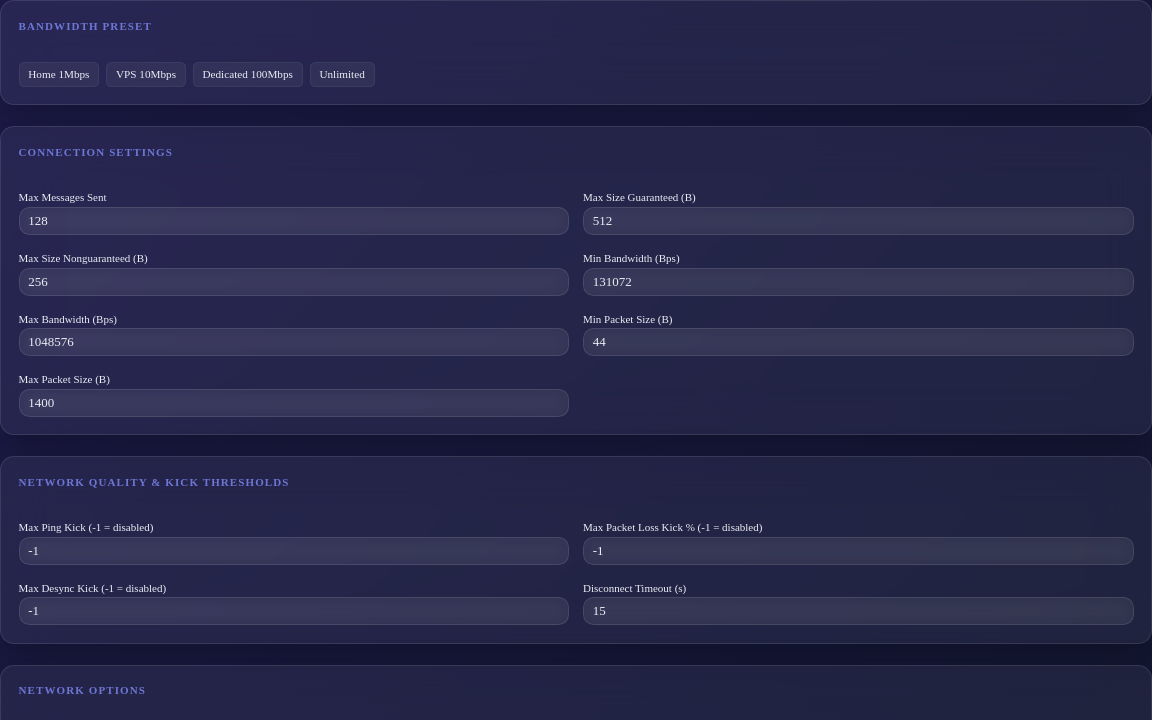
Test: NetworkTab › applies bandwidth preset values when preset button is clicked
Click the button "Unlimited". click: click(342, 74)
box: [310, 62, 375, 87]
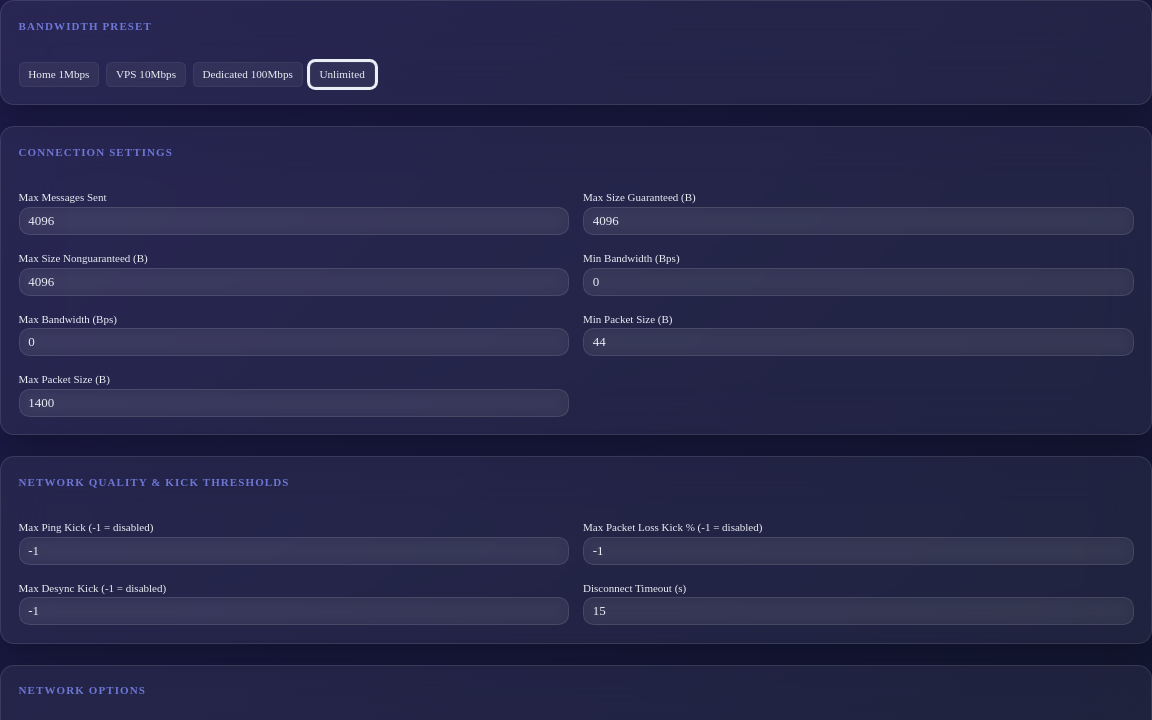
Check: the number field labelled "Max Messages Sent" holds "4096", box [18, 207, 569, 235]
